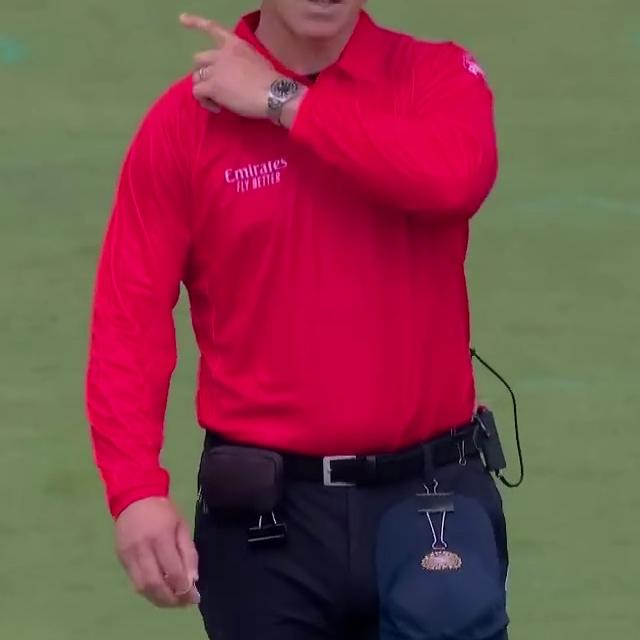umpire: (48, 0, 543, 640)
